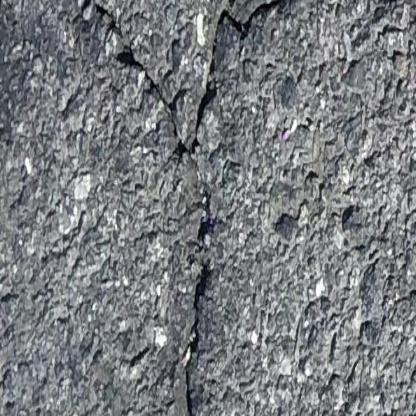Cracks: (169, 0, 295, 164), (113, 48, 190, 116), (182, 263, 213, 416), (195, 182, 216, 250), (66, 0, 113, 22), (399, 0, 416, 38)
